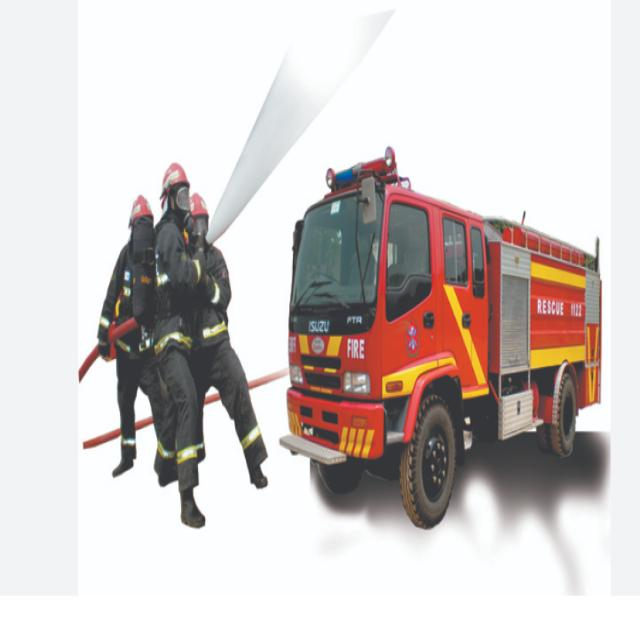fire brigade: (294, 174, 595, 484)
